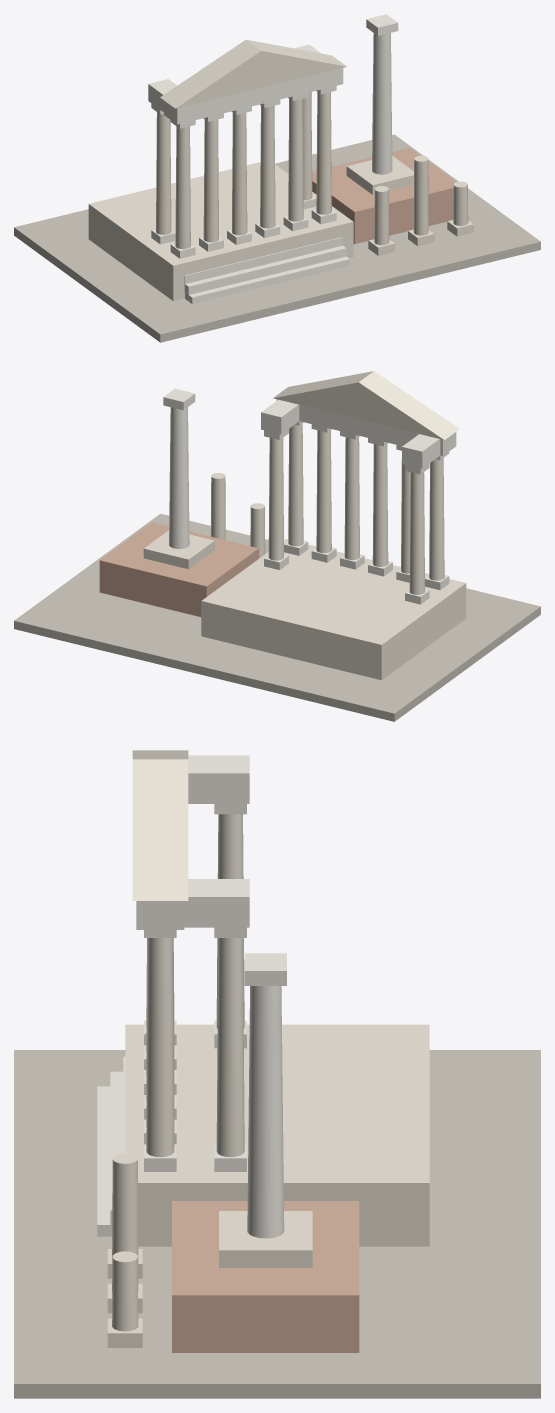
File: roman-forum.glb
3 renders of one model, top to bottom at view 1: azimuth 30°, elevation 25°; view 2: azimuth 150°, elevation 25°; view 3: azimuth 270°, elevation 25°, orthographic. The views are drawn at different scales.
Visible parts, largest first — view 1: Roman_Forum; view 2: Roman_Forum; view 3: Roman_Forum.
Boxes of the visible parts, x1,y1,x2,y2 form: Roman_Forum: (14, 14, 540, 342); Roman_Forum: (14, 371, 540, 721); Roman_Forum: (14, 750, 540, 1398).
Size of the model in its own units: 13.5 by 7.97 by 9.
